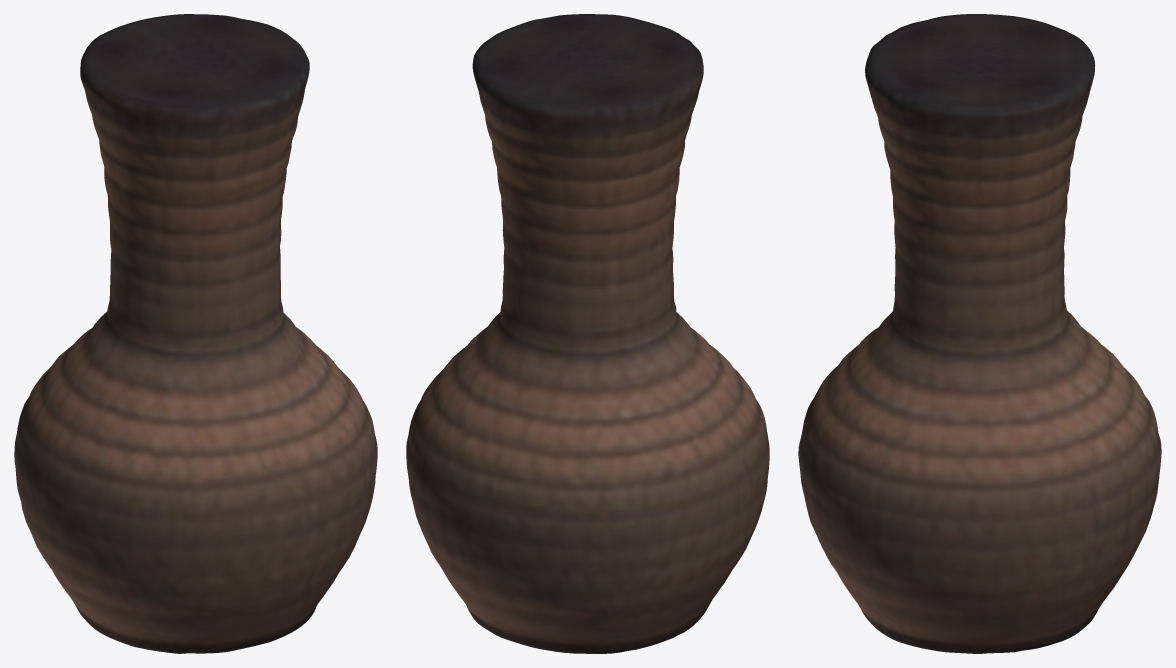
Rendered from 45029edee8ae_vase__3d_asset_0_gl.fbx.
3 renders of one model, left to right at view 1: azimuth 30°, elevation 25°; view 2: azimuth 150°, elevation 25°; view 3: azimuth 270°, elevation 25°, orthographic.
Visible parts, largest first — view 1: mesh; view 2: mesh; view 3: mesh.
Part boxes in pixels (bbox=[...]): mesh: bbox=[14, 14, 377, 653]; mesh: bbox=[406, 14, 769, 653]; mesh: bbox=[798, 14, 1161, 653].
Bounding box in the file's own units: 59.95 × 99.96 × 60.1.
